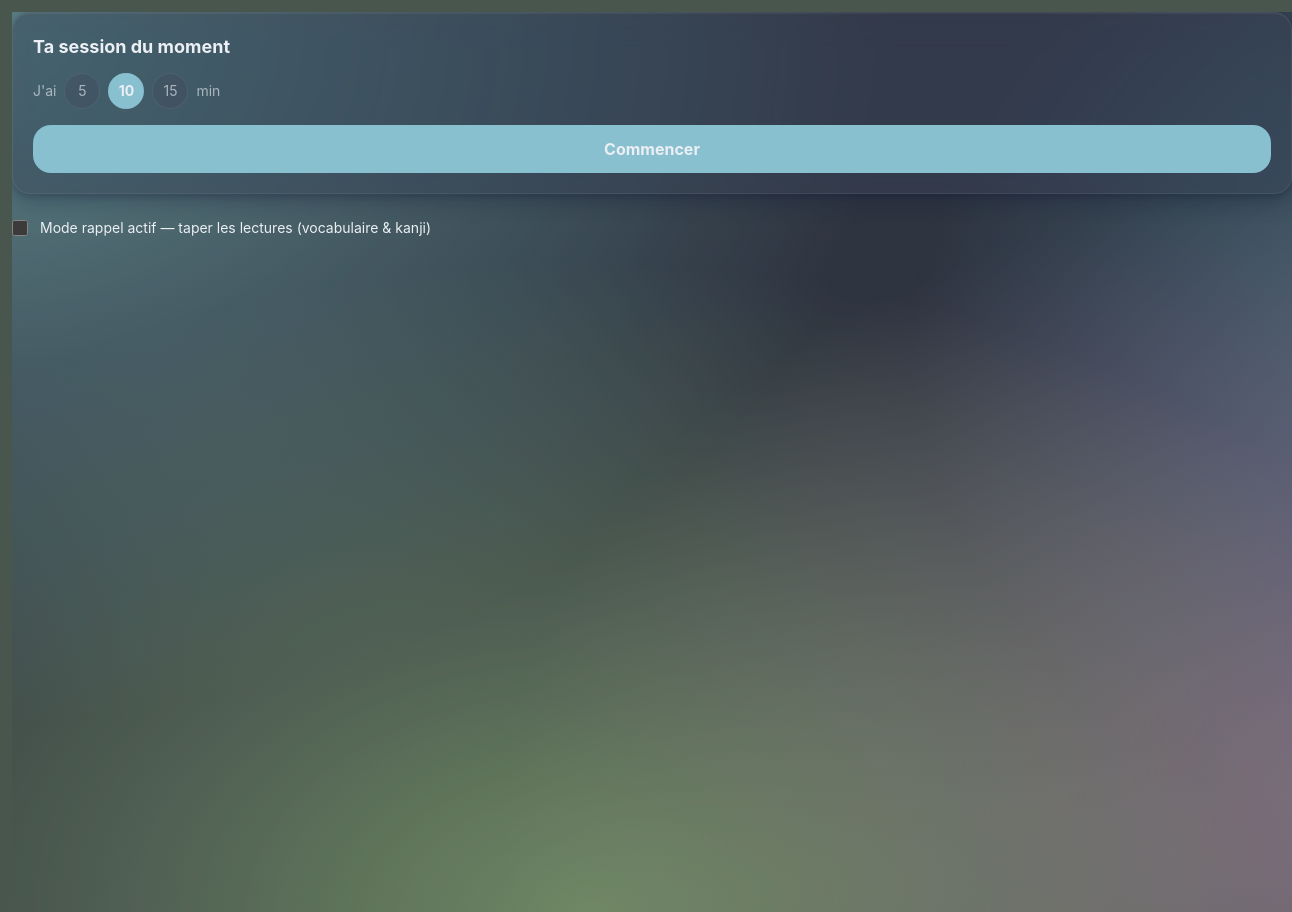
Test case: clicking Commencer starts a session (event arg does not NaN the session length)
The image size is (1292, 912).
Step 1. Click the button "Commencer" → [652, 149], box [33,125,1271,173]
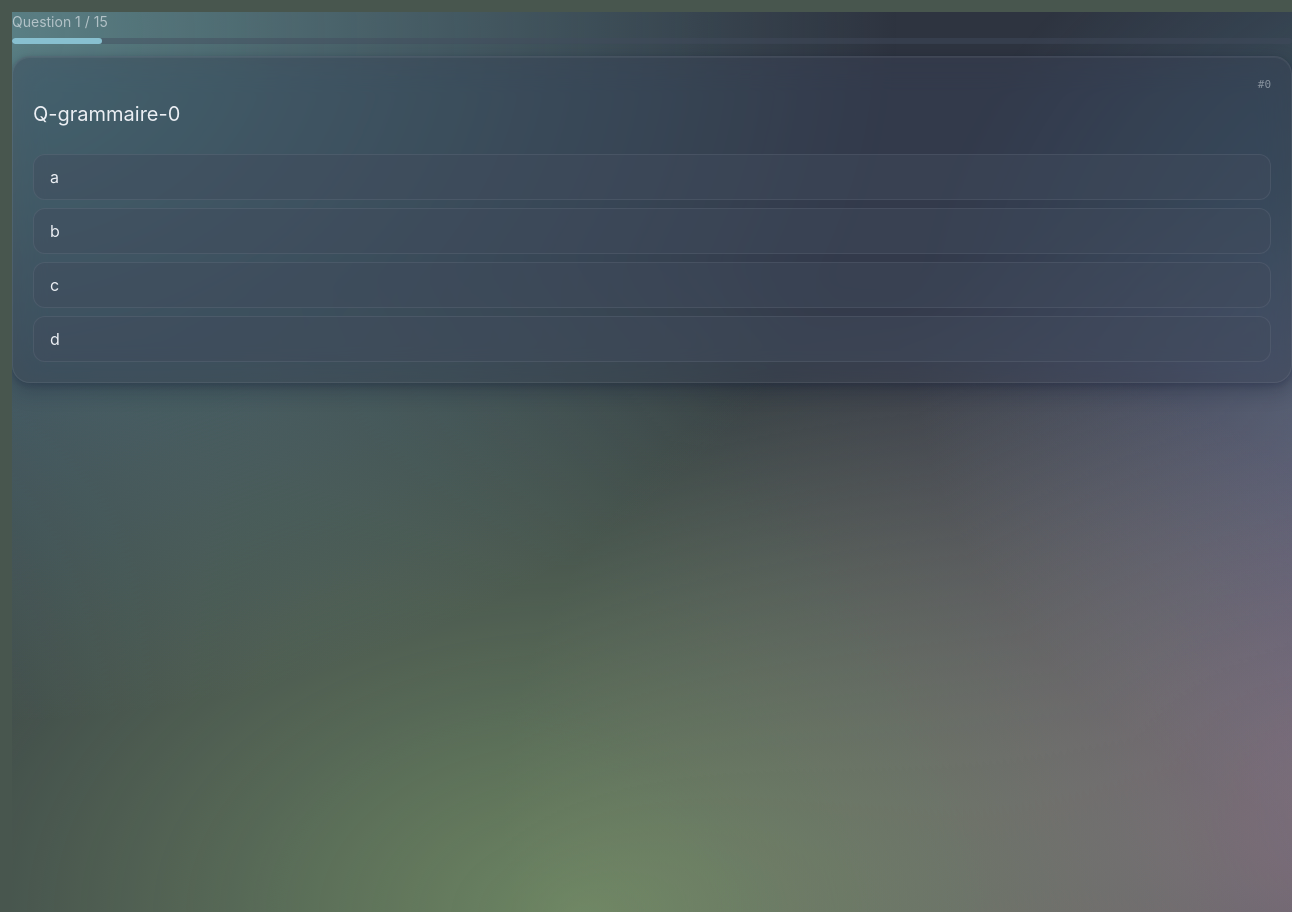
expect the text "Q-" is shown: met, box [33,102,180,126]
